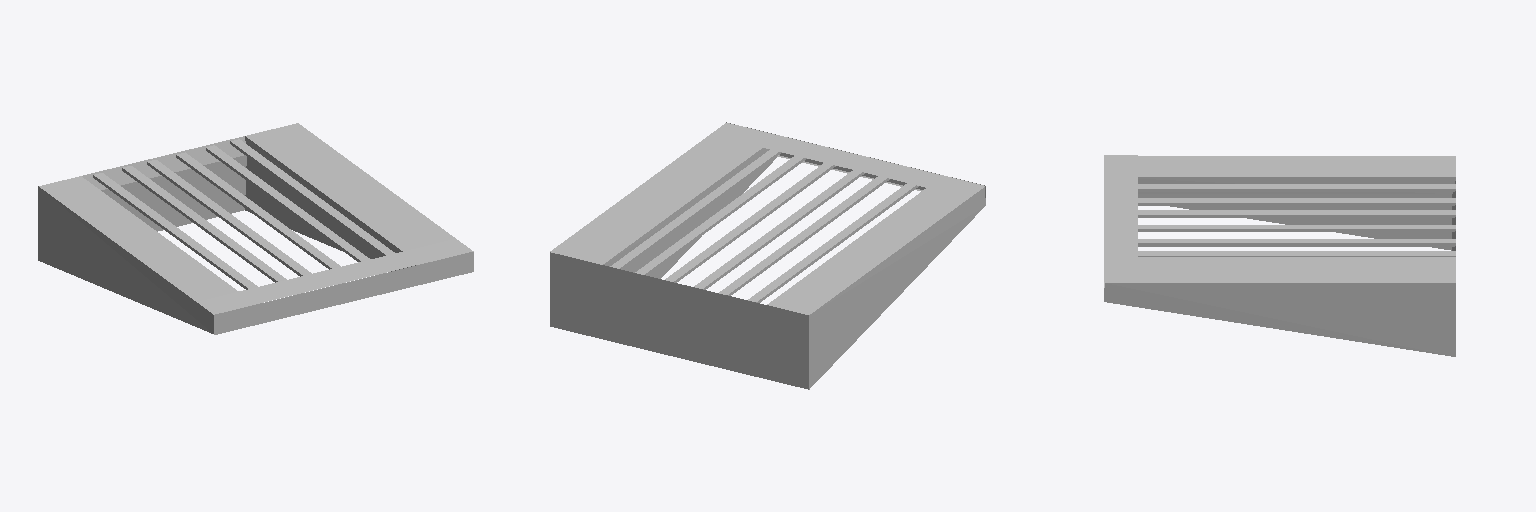
File: Platform_FlatA.obj
3 renders of one model, left to right at view 1: azimuth 30°, elevation 25°; view 2: azimuth 150°, elevation 25°; view 3: azimuth 270°, elevation 25°, orthographic.
Parts seen in each view (by area): view 1: Floor_Base.015; view 2: Floor_Base.015; view 3: Floor_Base.015.
Boxes of the visible parts, x1=… form: Floor_Base.015: x1=38, y1=123, x2=473, y2=334; Floor_Base.015: x1=550, y1=122, x2=985, y2=389; Floor_Base.015: x1=1104, y1=155, x2=1455, y2=356.
Size of the model in its own units: 8.03 by 2.22 by 9.41.